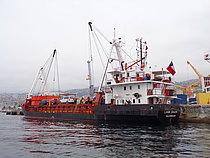Ship: (20, 90, 105, 123)
